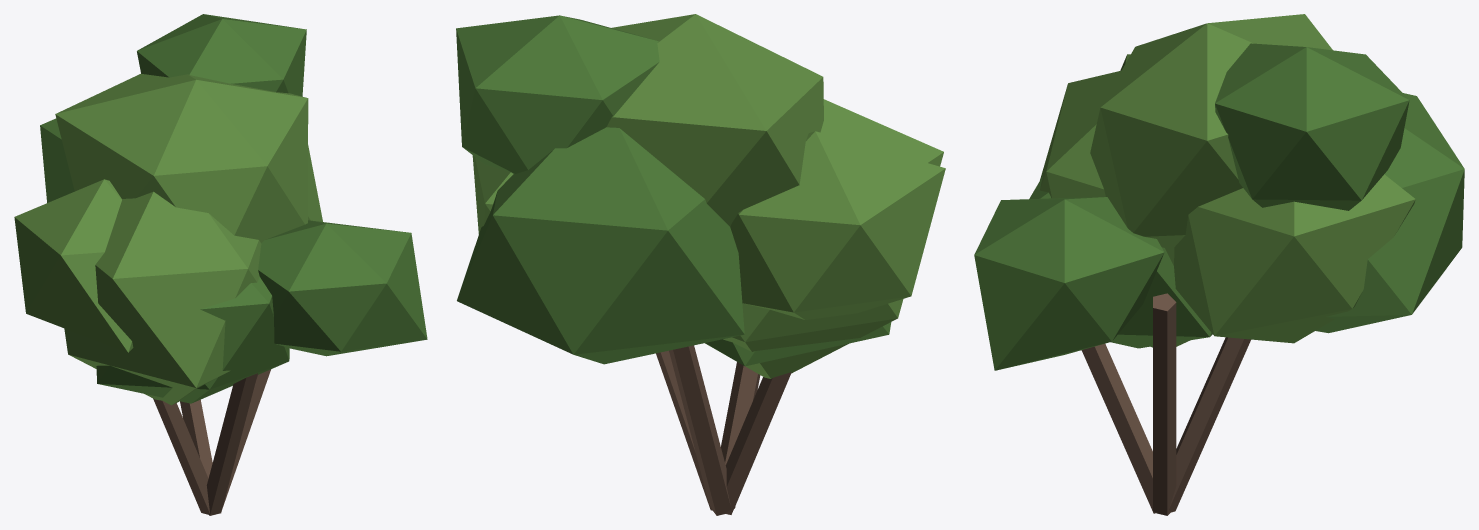
Rendered from syren.glb.
The picture shows the model from 3 angles, left to right: view 1: azimuth 30°, elevation 25°; view 2: azimuth 150°, elevation 25°; view 3: azimuth 270°, elevation 25°; orthographic projection. The views are drawn at different scales.
Visible parts, largest first — view 1: syren; view 2: syren; view 3: syren.
Part boxes in pixels (x1,y1,x2,y2): syren: (14,14,427,515); syren: (456,14,945,515); syren: (974,14,1464,515).
Bounding box in the file's own units: 2.4 × 3.01 × 2.65.
